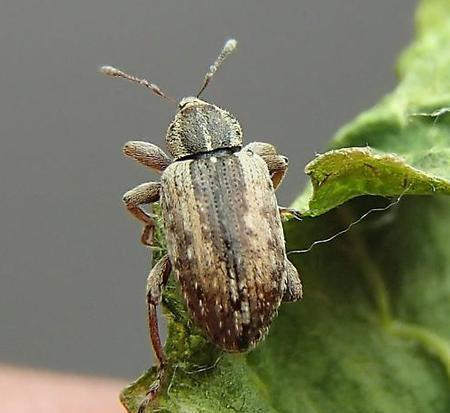weevils: (62, 18, 347, 413)
